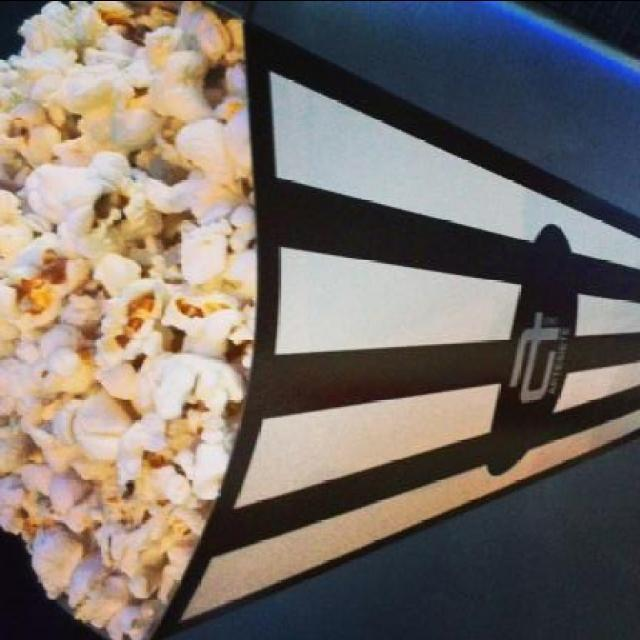Popcorn: (0, 2, 254, 640)
